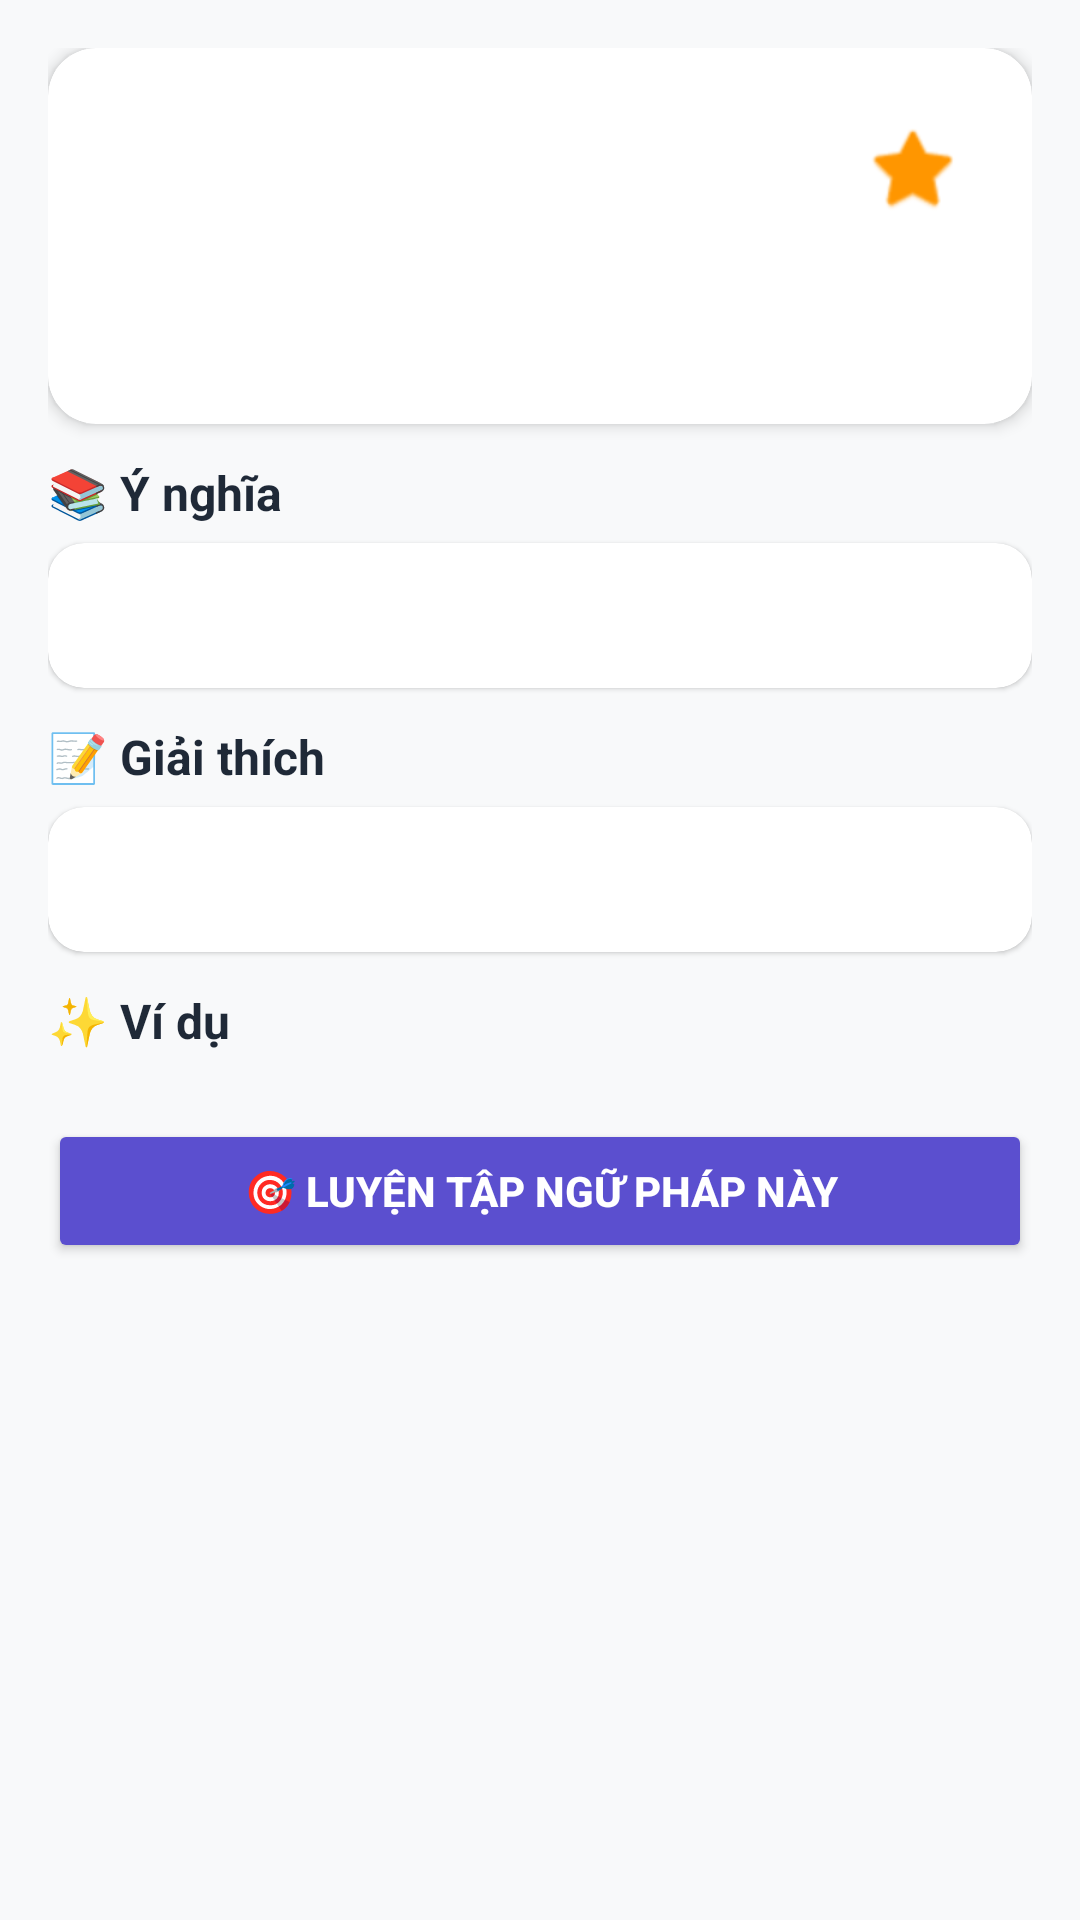

Where to tap for icons on this 1080px x 1920px app screen, as (x,y):
Yêu thích: (913,169)
